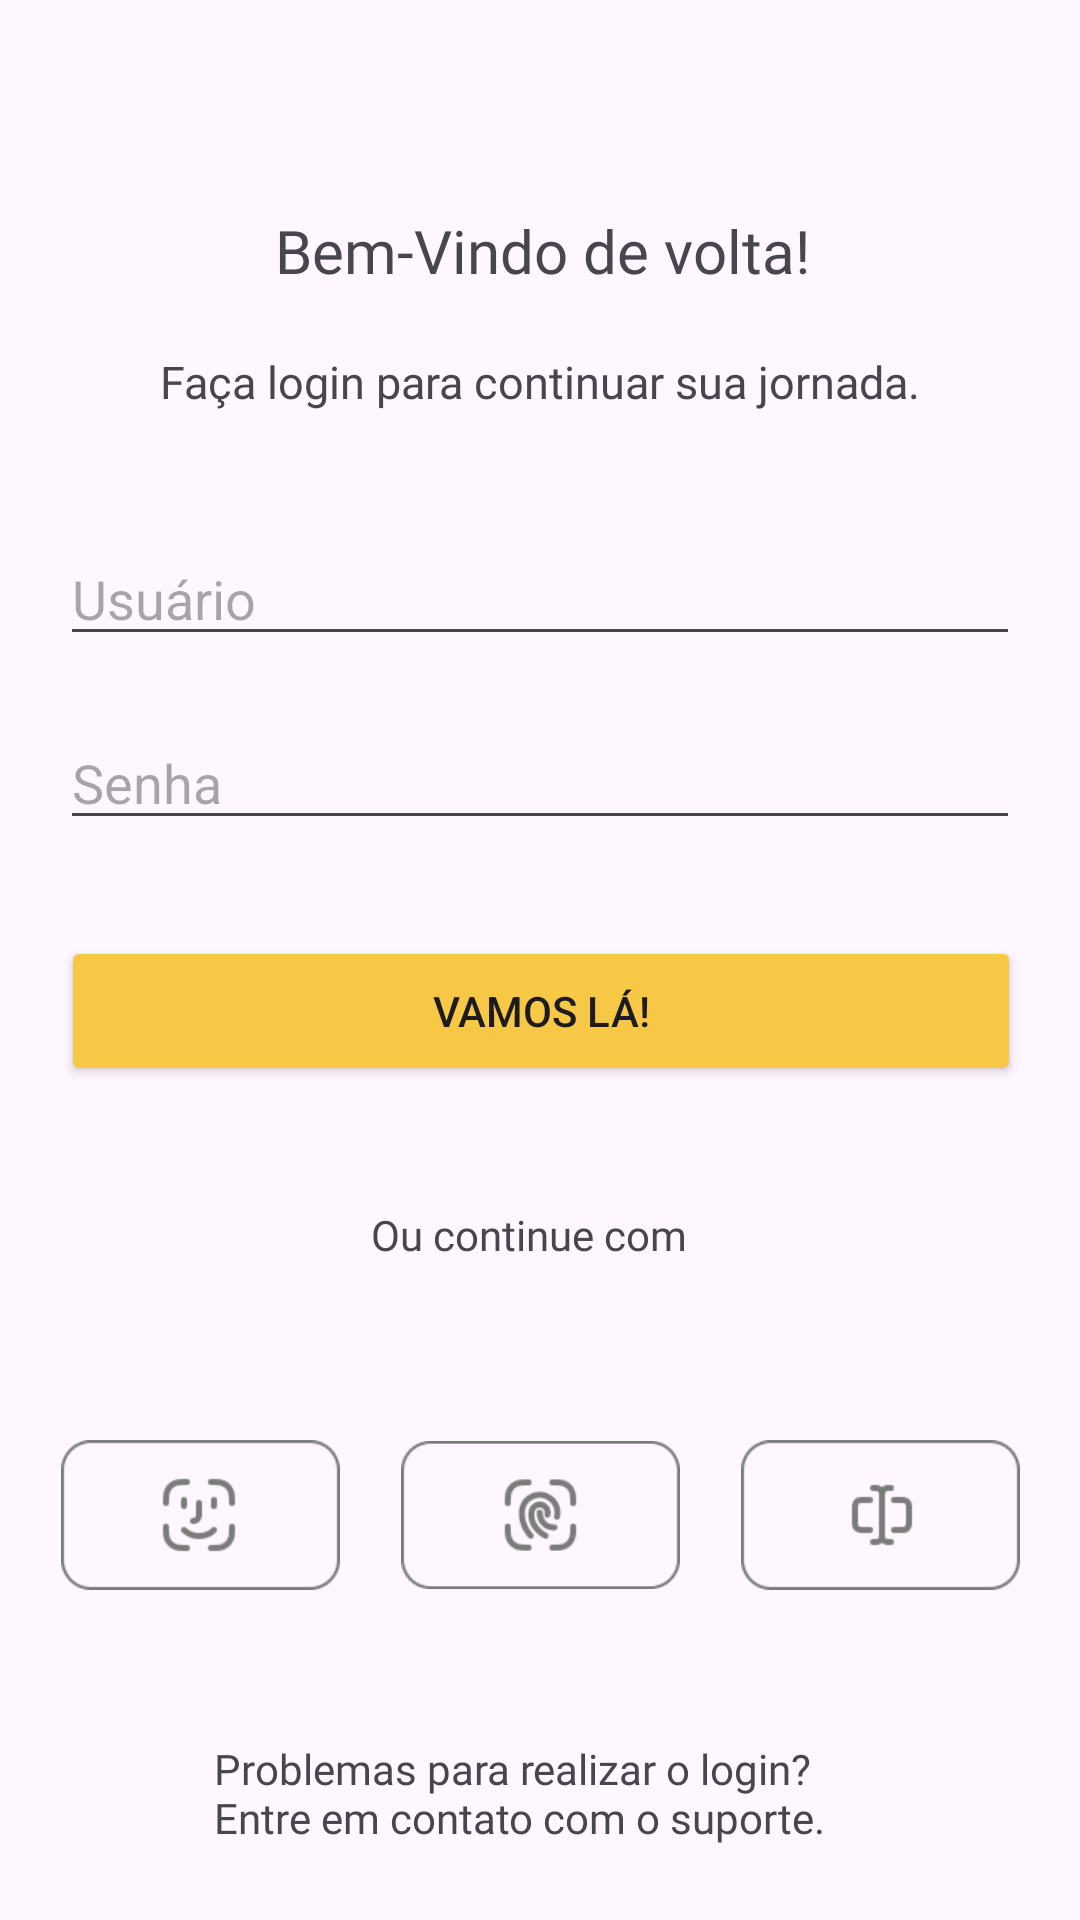

Point at icon controls on the screen. Image size 1080 x 1920, points as [x,y].
icondigi: [540,1515]
iconface: [200,1515]
